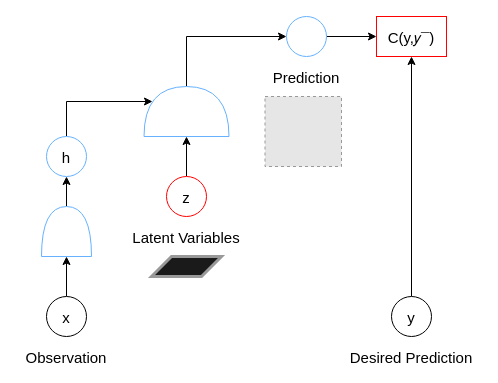
Some shapes in this 498 by 383 pixel diagram are drawn without their labels. Grey dashed boxes stand in for pictures. Each missing label, with the centre of its shape:
Dec(z,h): point (186, 111)
pred(x): point (66, 231)
𝑦¯: point (306, 36)
